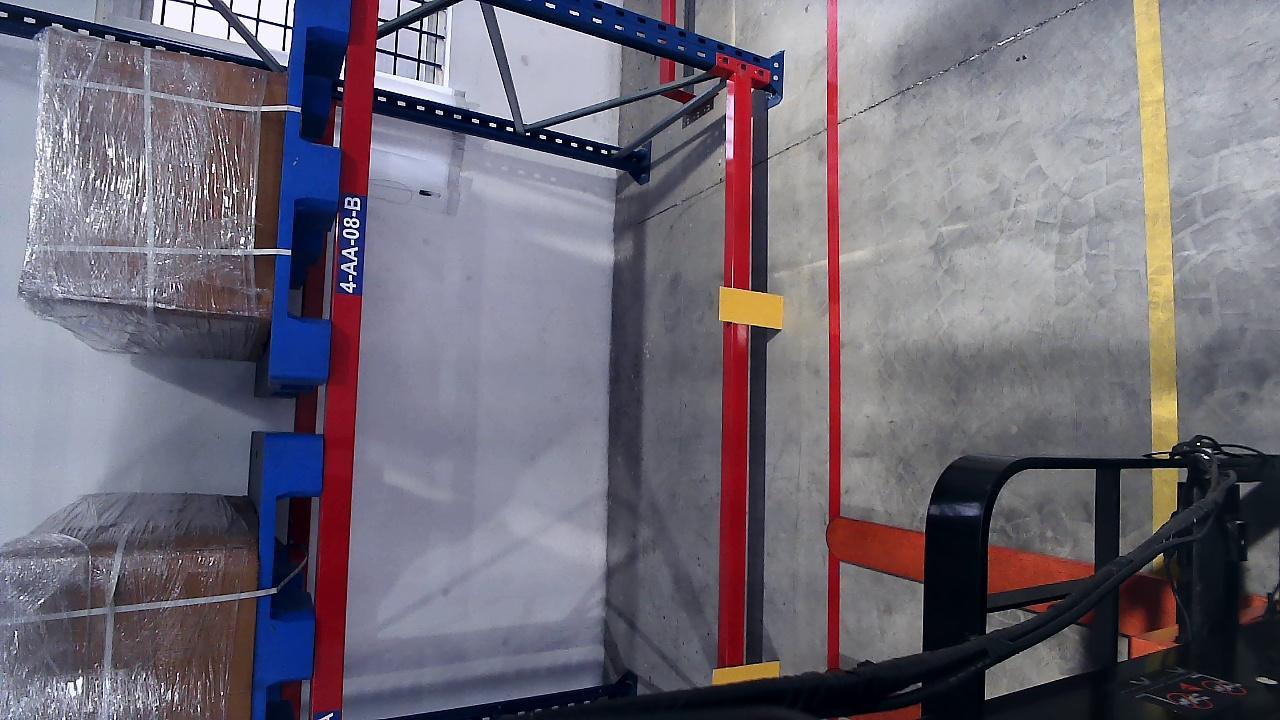h_rack: (312, 62, 376, 684), (719, 95, 757, 682)
orange_strip: (719, 285, 784, 328), (712, 660, 780, 684)
red_line: (822, 0, 844, 660)
small_pallet: (264, 0, 352, 378), (255, 440, 325, 719)
yellow_line: (1134, 0, 1181, 452)
